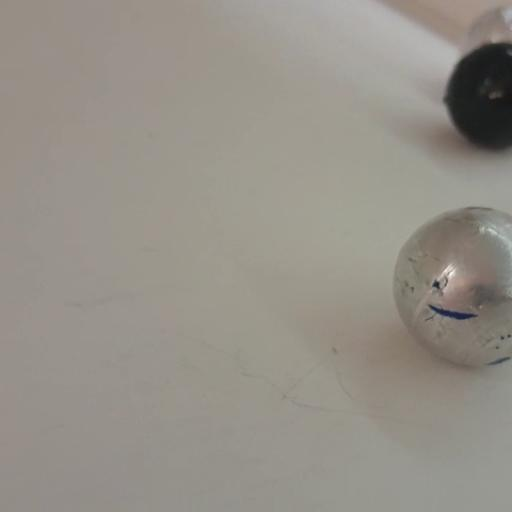alive: (388, 205, 512, 369), (466, 6, 511, 63)
dead: (443, 41, 512, 150)
